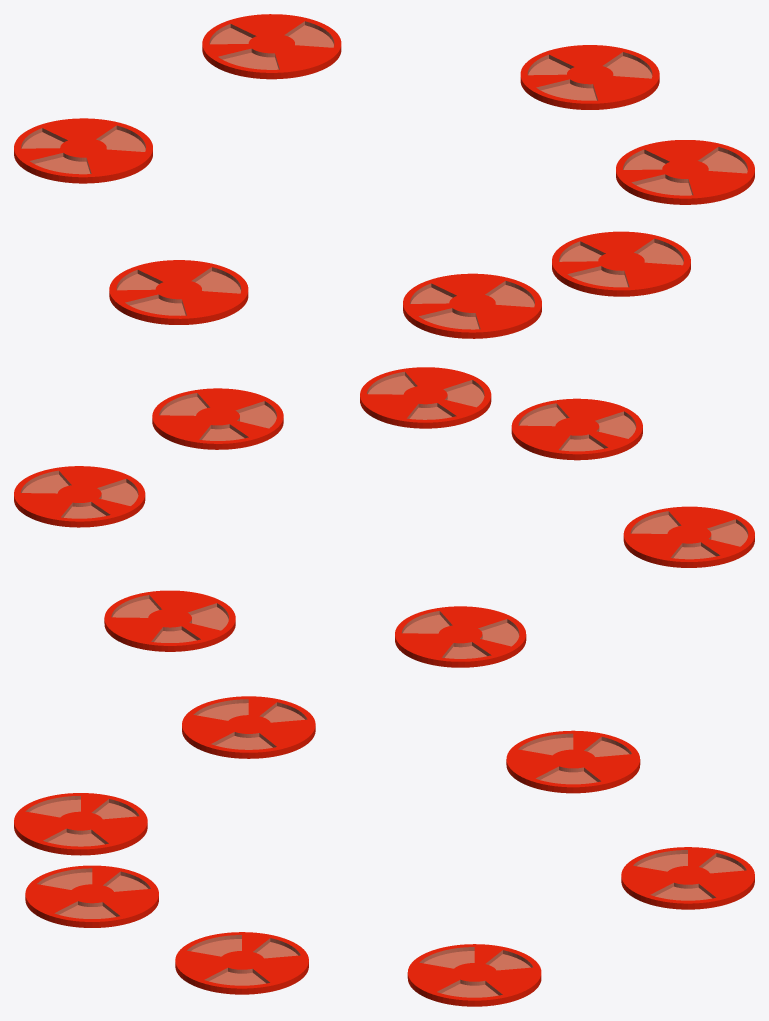
The model's file is tomato.fbx.
3 views of the same model, one above another, from view 1: azimuth 30°, elevation 25°; view 2: azimuth 150°, elevation 25°; view 3: azimuth 270°, elevation 25° (orthographic). The views are drawn at different scales.
Parts seen in each view (by area): view 1: Tomato; view 2: Tomato; view 3: Tomato.
Part boxes in pixels (x1,y1,x2,y2): Tomato: [14, 14, 754, 338]; Tomato: [14, 367, 754, 667]; Tomato: [14, 696, 754, 1006].
Size of the model in its own units: 167 by 1.55 by 172.
